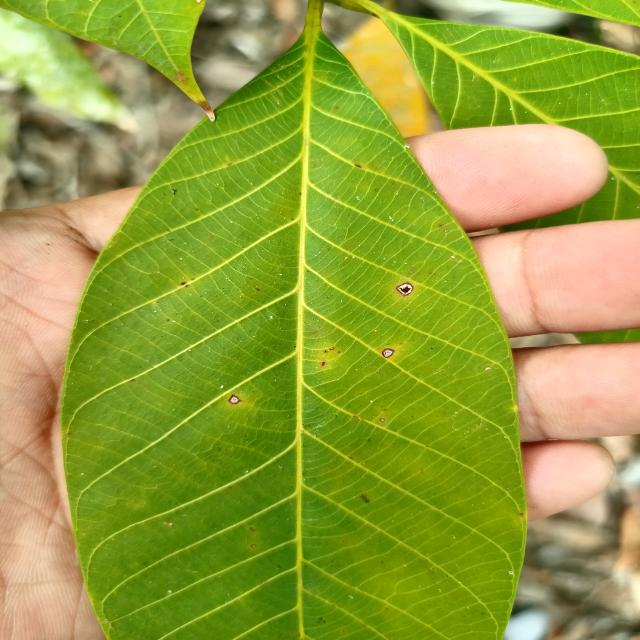Colletotrichum: (396, 283, 414, 296), (382, 348, 395, 358), (228, 394, 240, 404), (380, 418, 385, 422)
Leaf-Blight: (199, 100, 215, 122)
